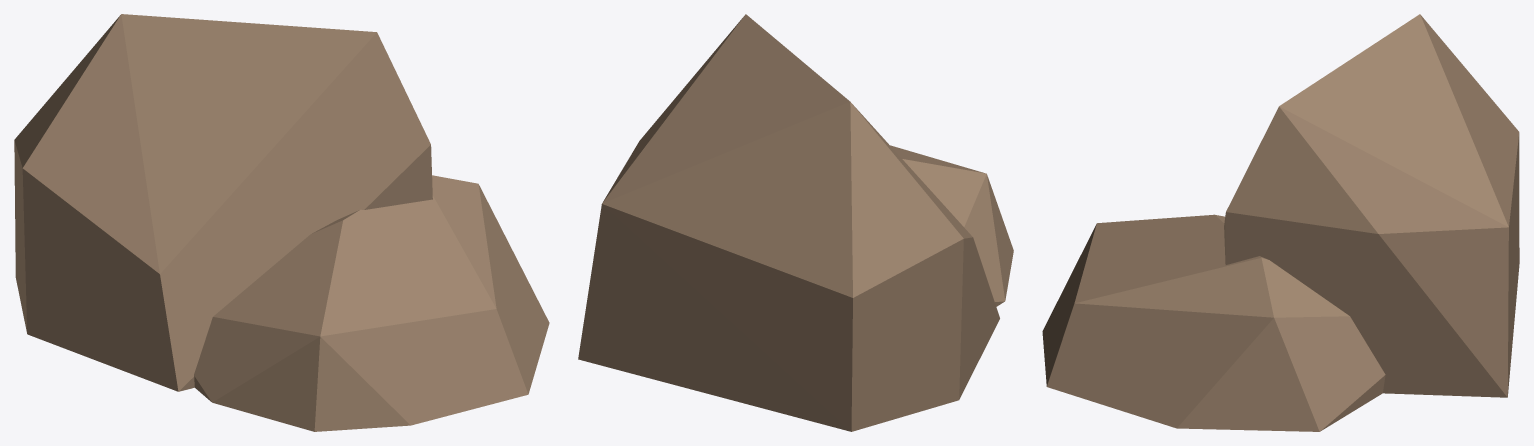
Rendered from Rock.001.fbx.
3 renders of one model, left to right at view 1: azimuth 30°, elevation 25°; view 2: azimuth 150°, elevation 25°; view 3: azimuth 270°, elevation 25°, orthographic. The views are drawn at different scales.
Parts seen in each view (by area): view 1: Rock.001; view 2: Rock.001; view 3: Rock.001.
Part boxes in pixels (x1,y1,x2,y2): Rock.001: (14,14,549,431); Rock.001: (578,14,1013,431); Rock.001: (1042,14,1519,431).
Size of the model in its own units: 2.04 by 1.35 by 2.13.
